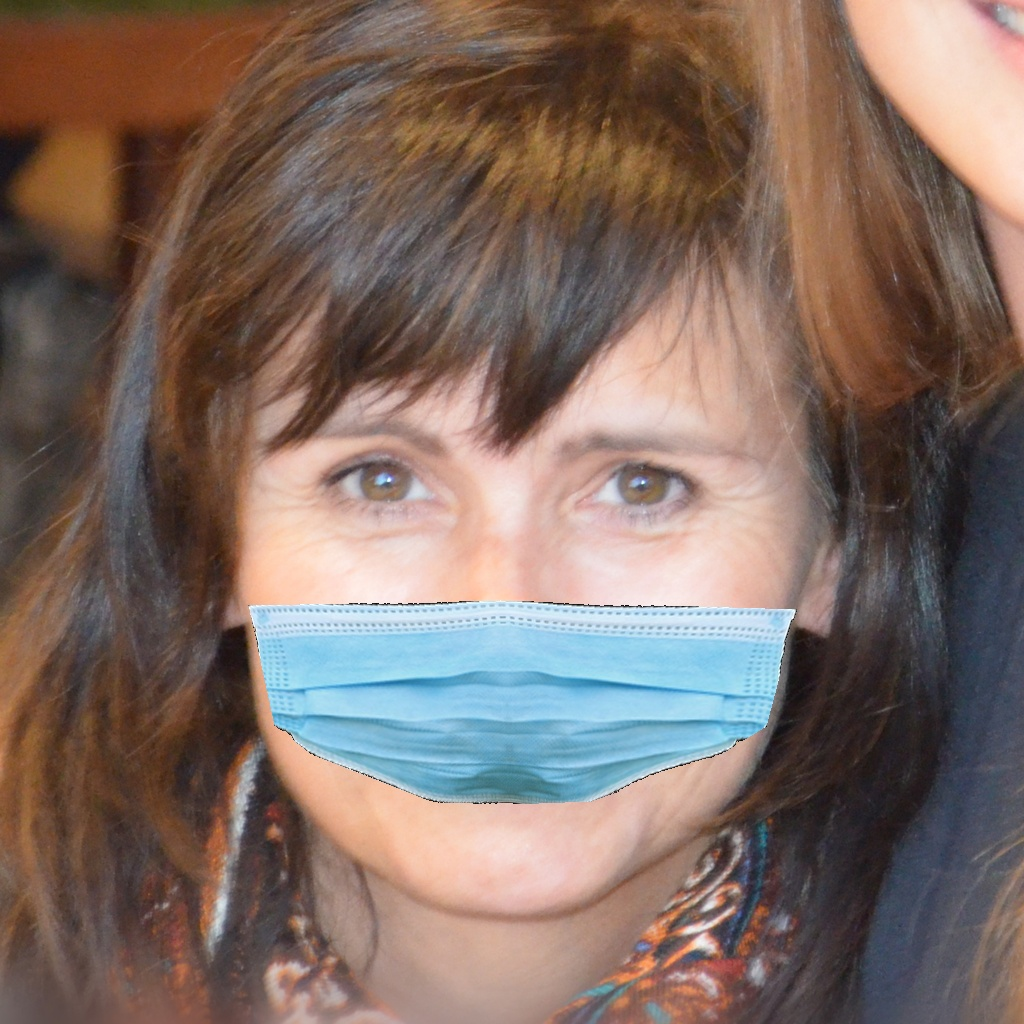mascarilla_mal_puesta: (207, 373, 854, 920)
